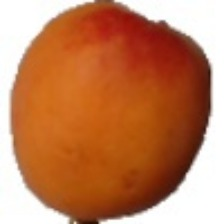apricot: (41, 16, 209, 197)
